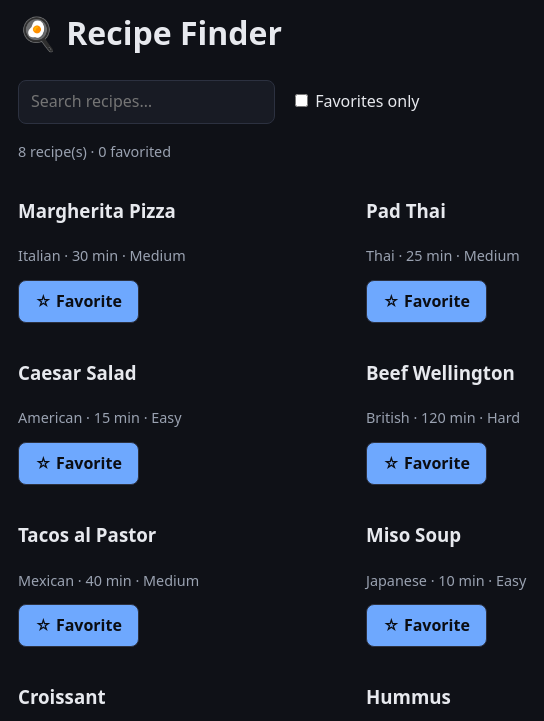
Test: Recipe Finder › filters recipes by the search box
Check: the heading "Margherita Pizza" is shown, box [18, 198, 176, 223]
Type "soup" into the field labelled "Search recipes…" at point(146, 102), box [18, 80, 275, 124]
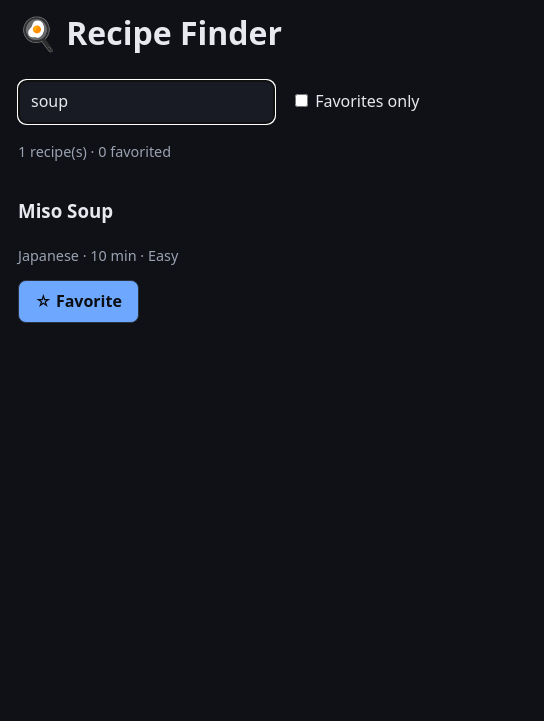
Check: the heading "Miso Soup" is shown, box [18, 198, 113, 223]
Check: the heading "Margherita Pizza" is gone
